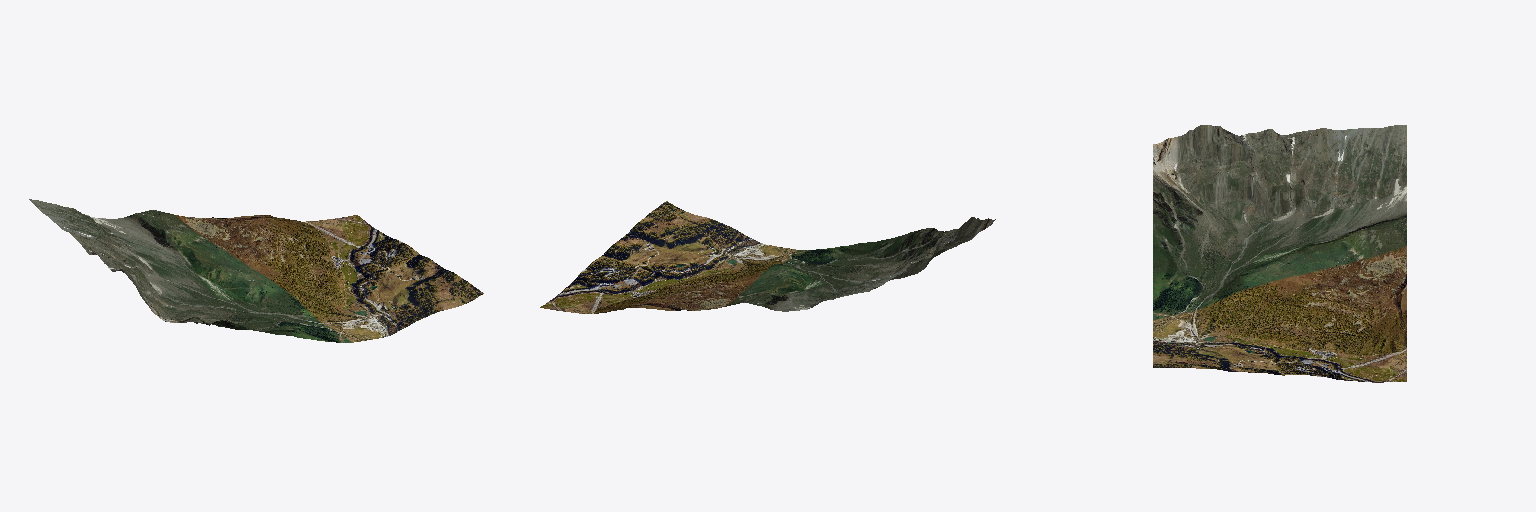
The picture shows the model from 3 angles: view 1: azimuth 30°, elevation 25°; view 2: azimuth 150°, elevation 25°; view 3: azimuth 270°, elevation 25°; orthographic projection.
Parts seen in each view (by area): view 1: EXPORT_GOOGLE_SAT_WM.003; view 2: EXPORT_GOOGLE_SAT_WM.003; view 3: EXPORT_GOOGLE_SAT_WM.003.
Boxes of the visible parts, x1,y1,x2,y2 form: EXPORT_GOOGLE_SAT_WM.003: [29, 199, 483, 342]; EXPORT_GOOGLE_SAT_WM.003: [540, 201, 995, 313]; EXPORT_GOOGLE_SAT_WM.003: [1153, 125, 1406, 382].
Size of the model in its own units: 4562 by 1348 by 3041.
Materials: 1 (1 with a texture image).